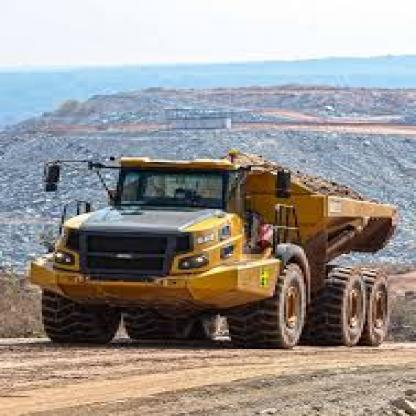dump_truck: (20, 143, 409, 363)
